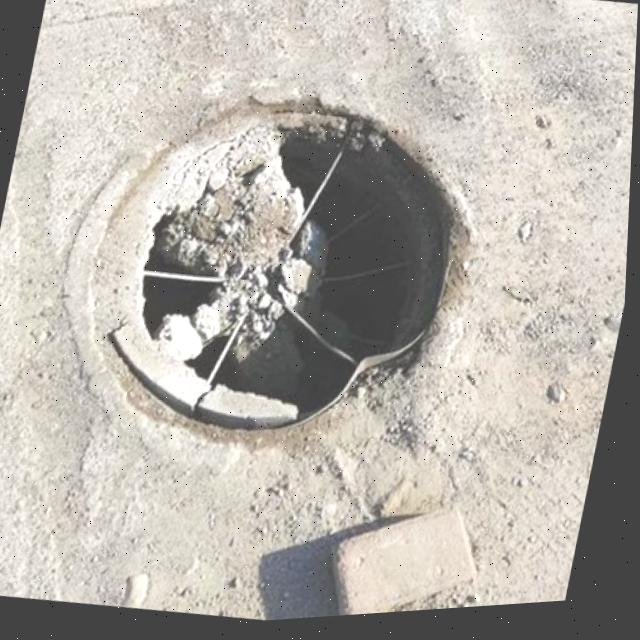manhole: (46, 55, 510, 478)
